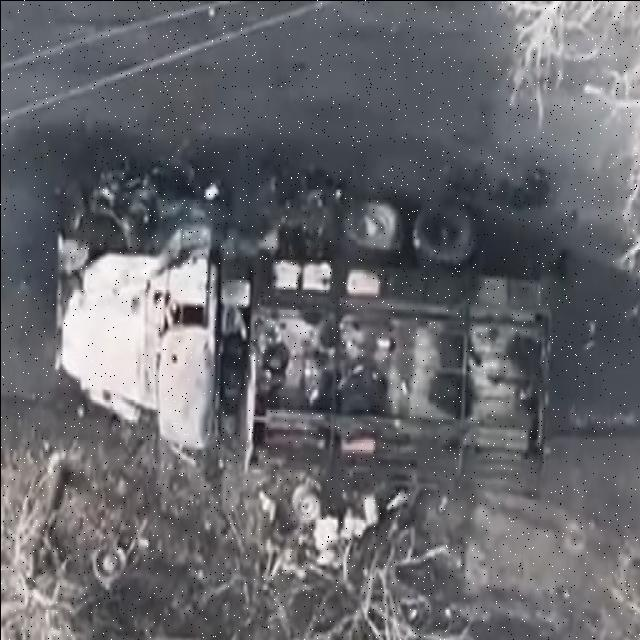TRUCK: (45, 165, 551, 486)
